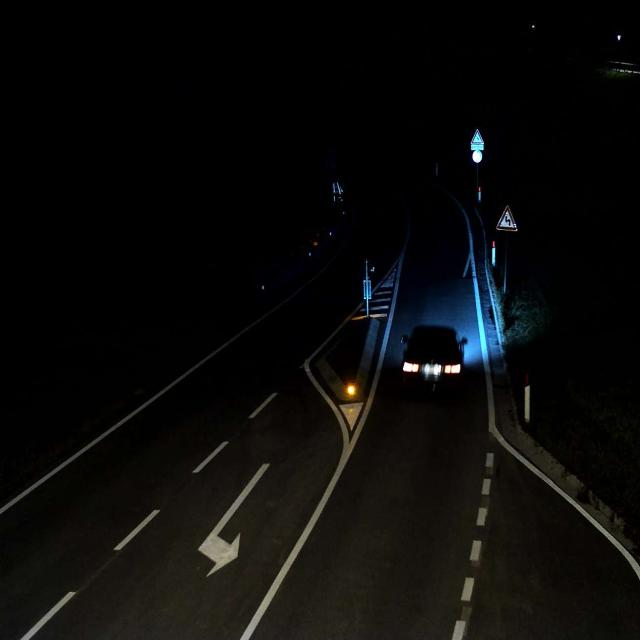car: (400, 324, 468, 394)
